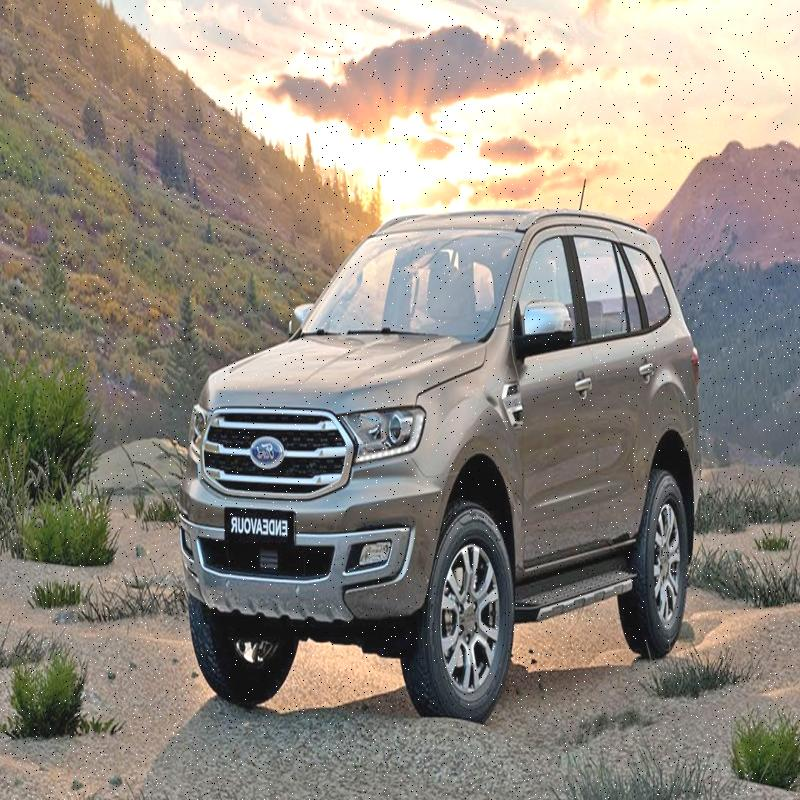car: (182, 188, 733, 739)
